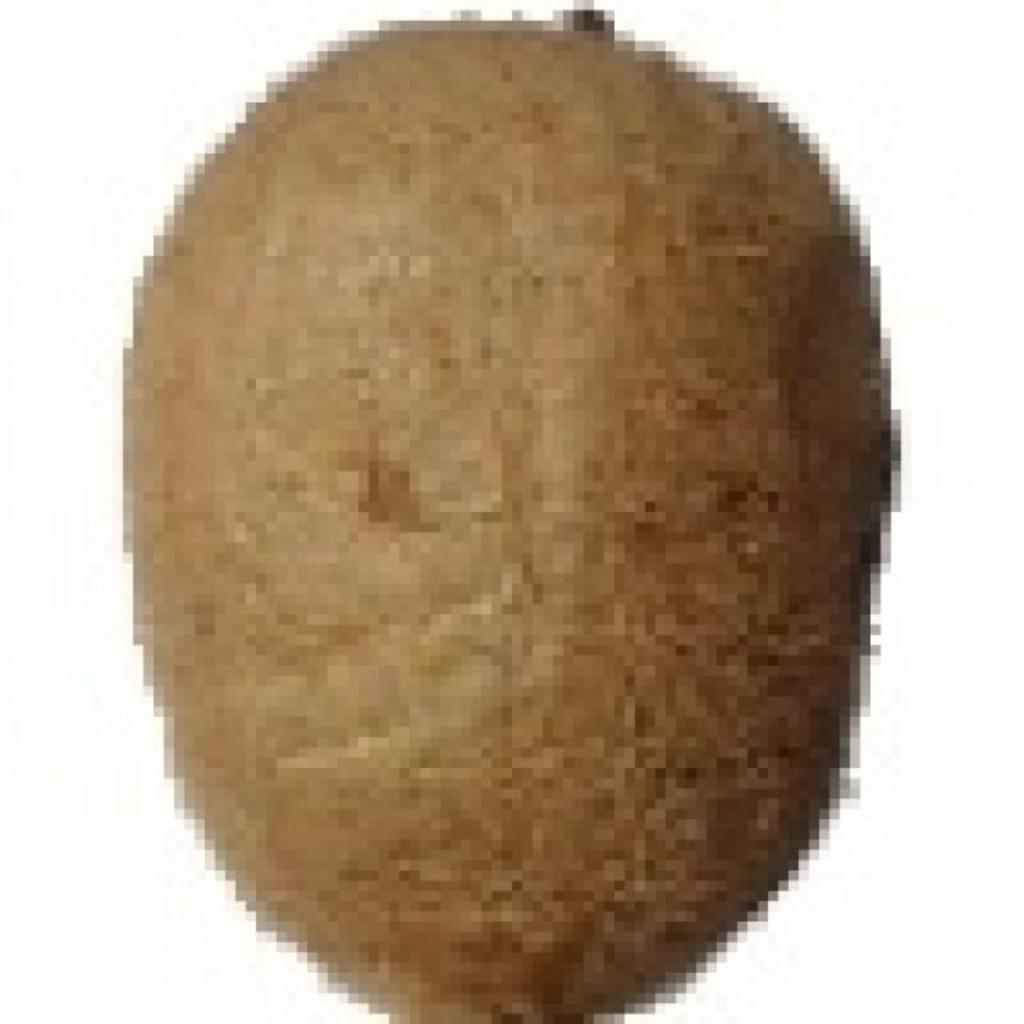kiwi: (123, 10, 870, 1004)
